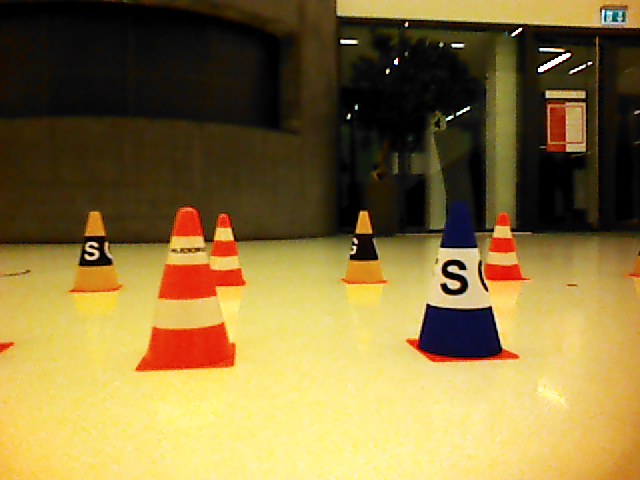bluecone: (419, 199, 502, 359)
orangeconesmall: (149, 204, 229, 365), (486, 209, 522, 279), (213, 210, 240, 283)
yellowcone: (77, 209, 117, 291), (348, 210, 381, 282)
